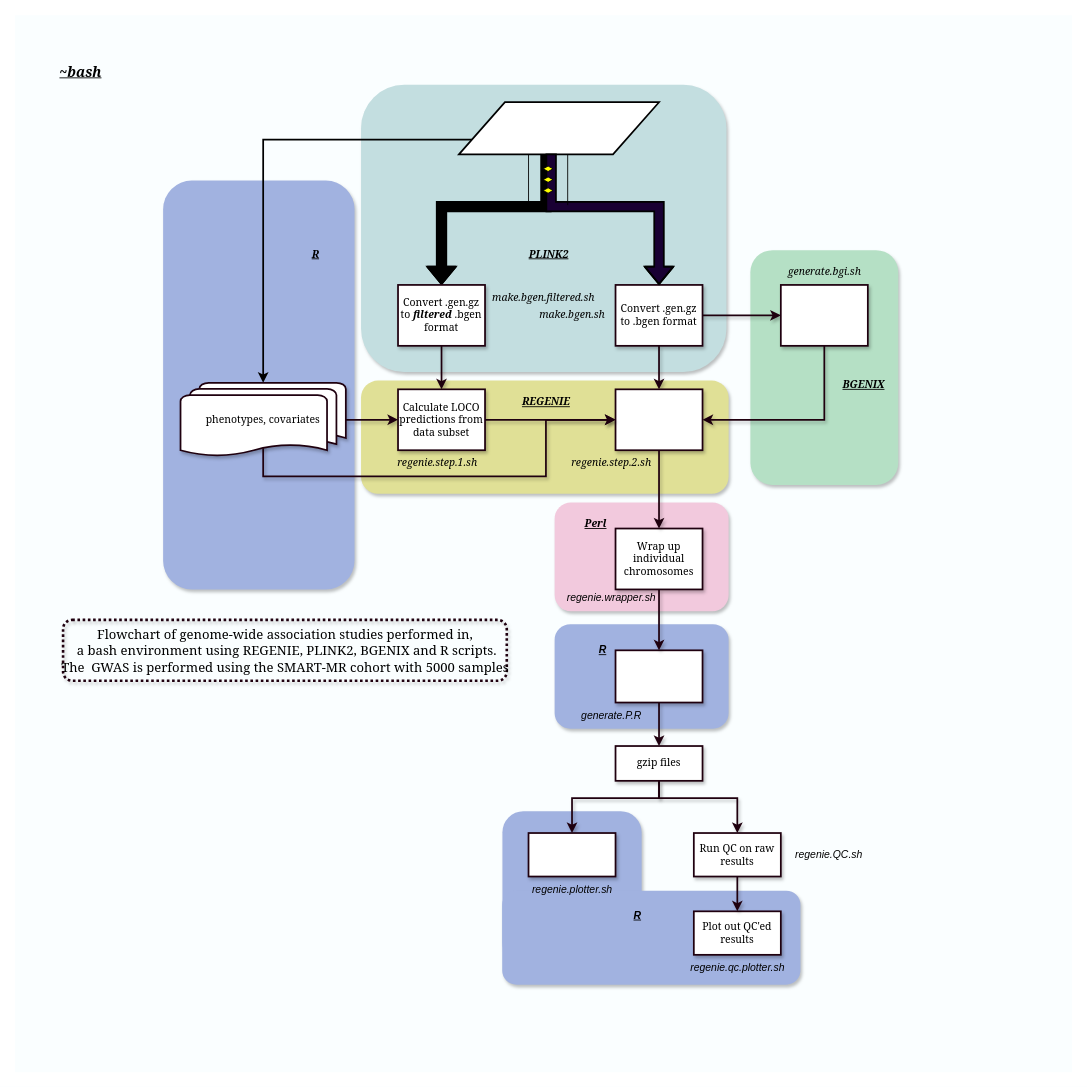
The diagram is 1087 pixels wide and 1087 high, and some of its shapes have lost their labels. The centre of each missing label's shape, as x and y in pixels:
Calculate P-values from -LOG10P values: the point at 659,677
Genererate .bgen index files .bgi: the point at 824,316
Plot out results: the point at 572,855
Run GWAS on chromosomes: the point at 659,421
SMART-MR Cohort data .gen.gz format .sample format: the point at 558,128
